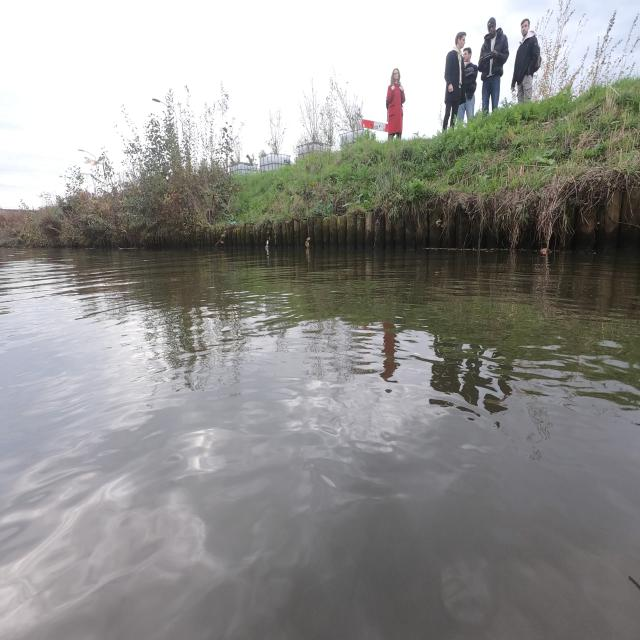grass: (232, 84, 622, 246)
reed: (42, 100, 235, 245)
sky: (3, 0, 548, 167)
water: (1, 243, 639, 639)
